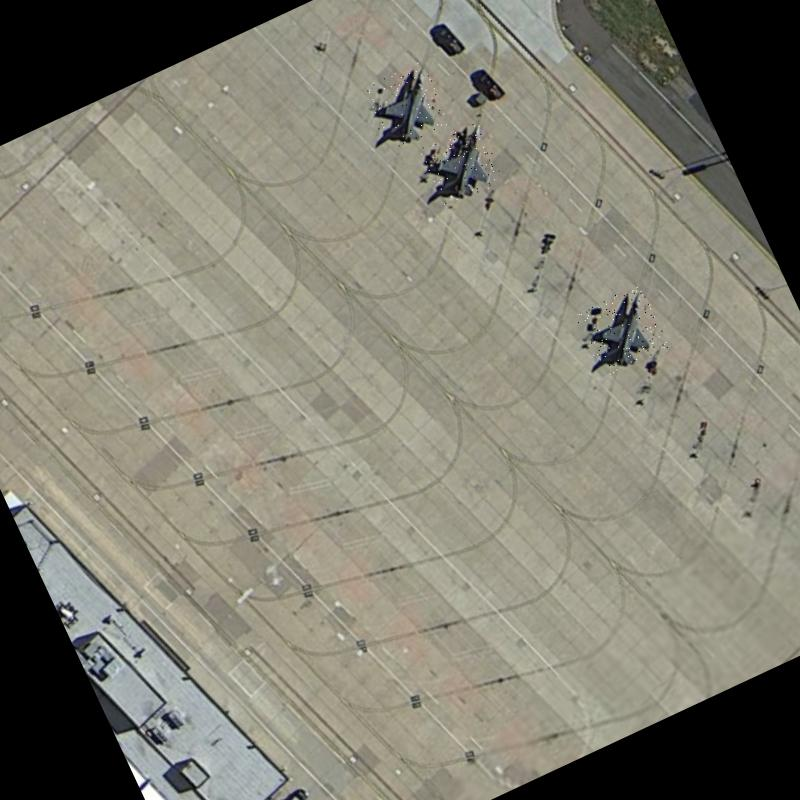A5: (574, 283, 670, 377), (358, 59, 451, 153), (417, 120, 505, 208)
